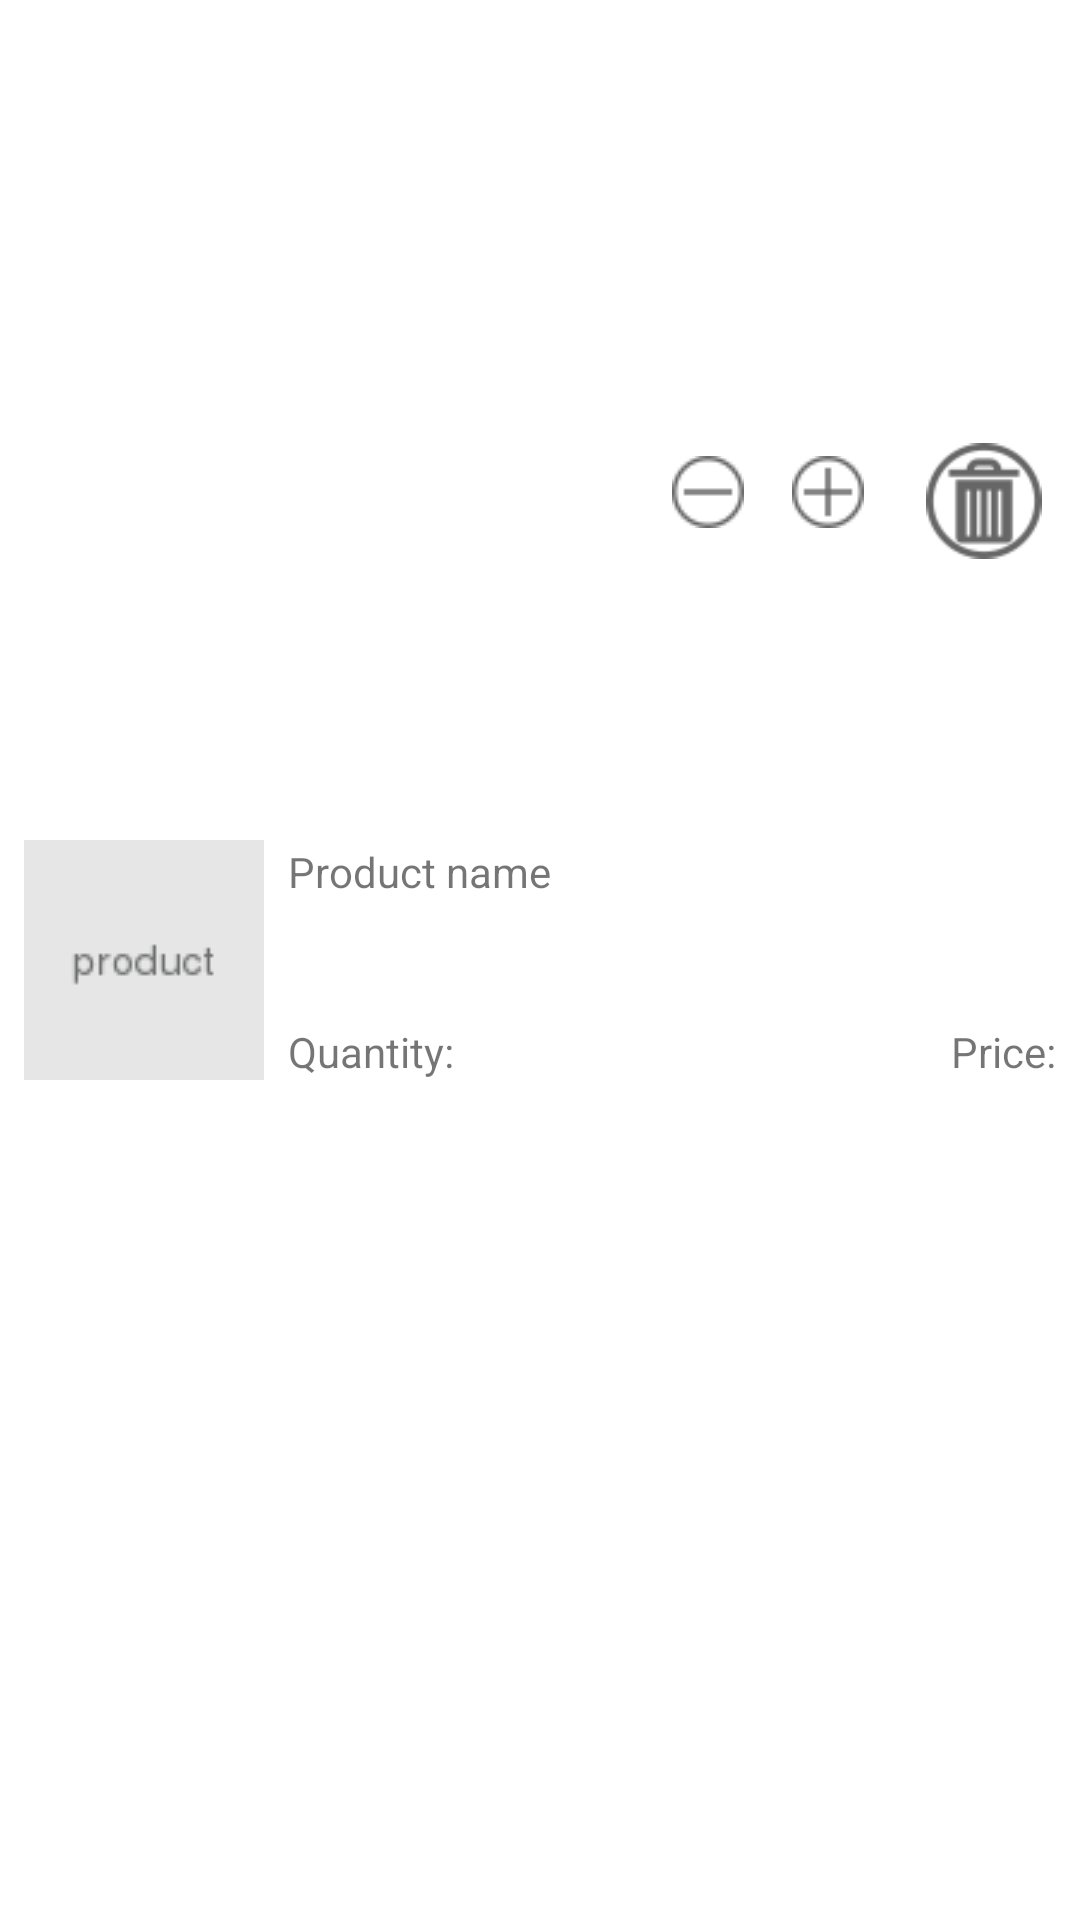

Where icons sit on this 1080px×1920px app screen, as (x1, y1, x2, y2):
minus: (672, 456, 744, 528)
plus: (792, 456, 864, 528)
